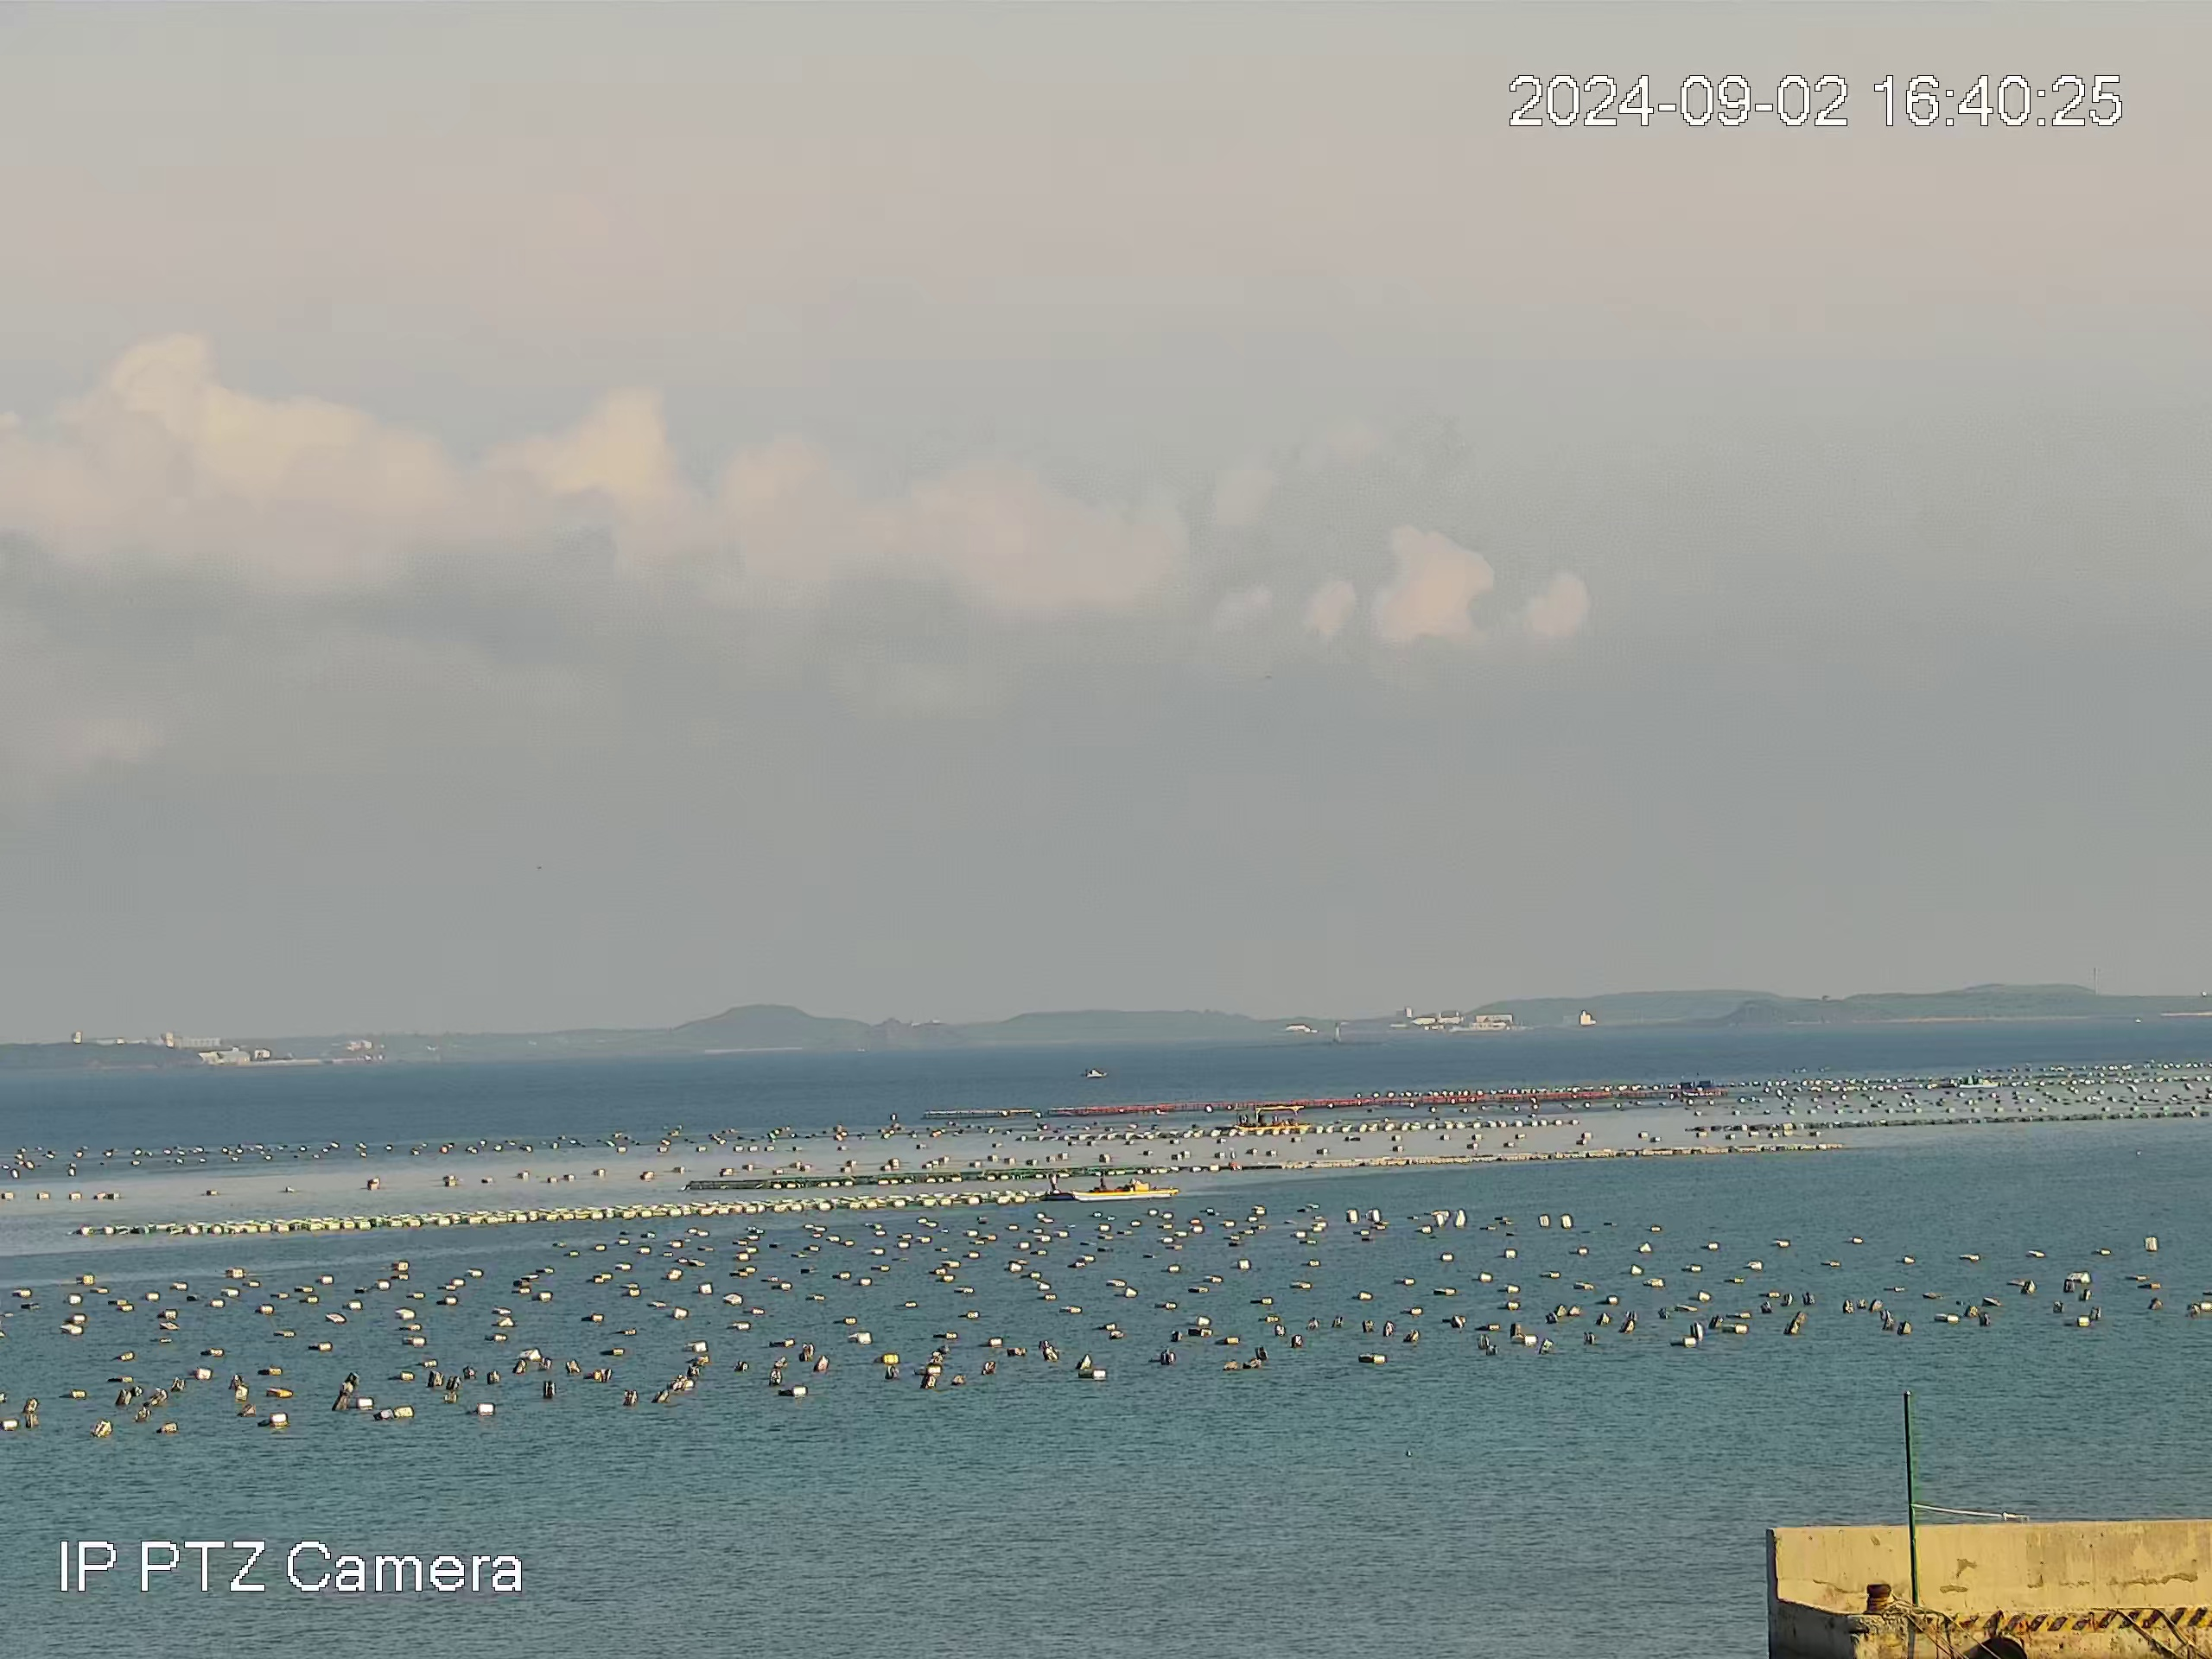boat: (1038, 1169, 1181, 1202), (1231, 1103, 1313, 1131), (1956, 1073, 2000, 1089), (1083, 1066, 1108, 1079)
